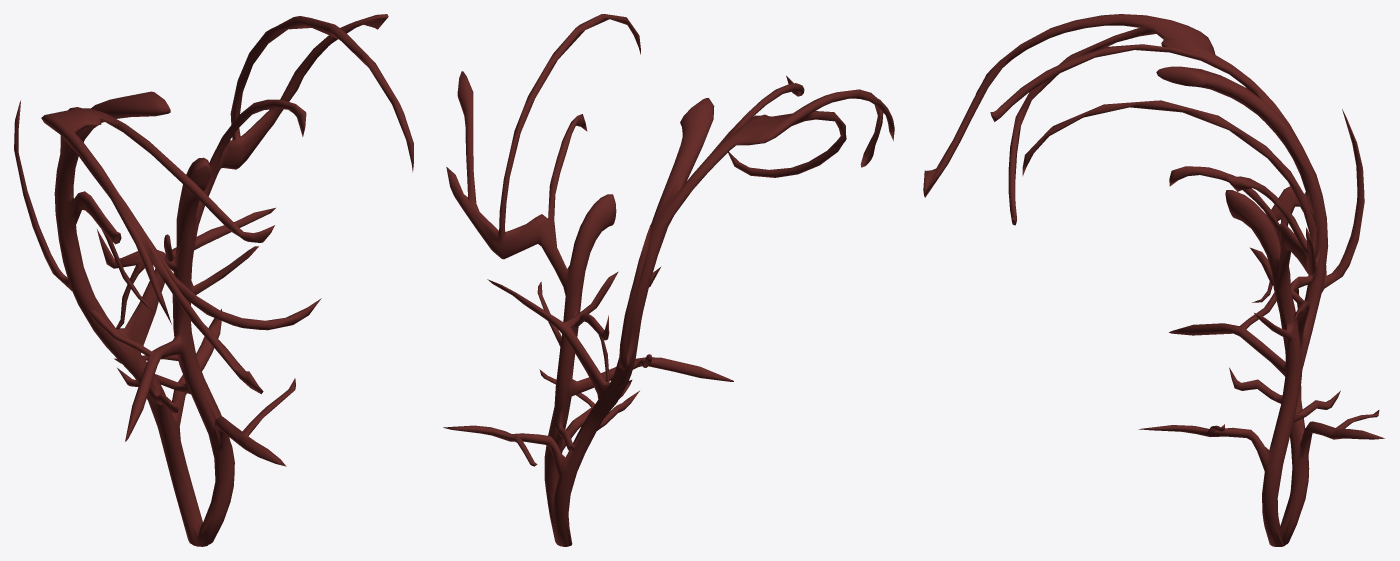
File: MoonTreeState02.gltf
3 renders of one model, left to right at view 1: azimuth 30°, elevation 25°; view 2: azimuth 150°, elevation 25°; view 3: azimuth 270°, elevation 25°, orthographic. The views are drawn at different scales.
Parts seen in each view (by area): view 1: Retopo_Cylinder.001; view 2: Retopo_Cylinder.001; view 3: Retopo_Cylinder.001.
Part boxes in pixels (box(x1,y1,x2,y2)): Retopo_Cylinder.001: box(14, 14, 413, 546); Retopo_Cylinder.001: box(443, 14, 894, 546); Retopo_Cylinder.001: box(923, 14, 1384, 546).
Size of the model in its own units: 9.26 by 12.94 by 11.57.
